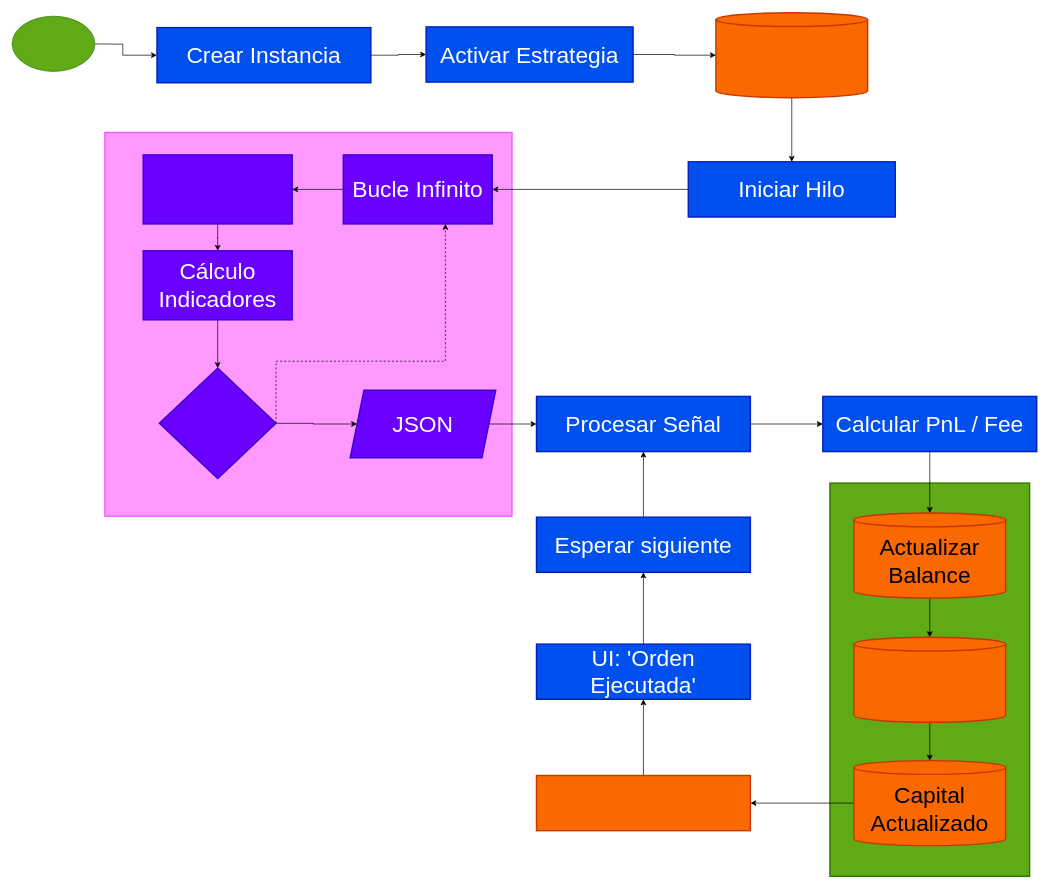
Image size: 1049x889. Some labels were removed from this diagram. Here are the shapes that lost their labels. From the top down, the centre of each, then its label:
pixel 53 43: Inicio
pixel 791 55: Capital Reservado
pixel 217 189: API: Precio Actual
pixel 217 423: ¿Señal?
pixel 929 679: Guardar Posicion
pixel 643 802: Guardar Operacion
